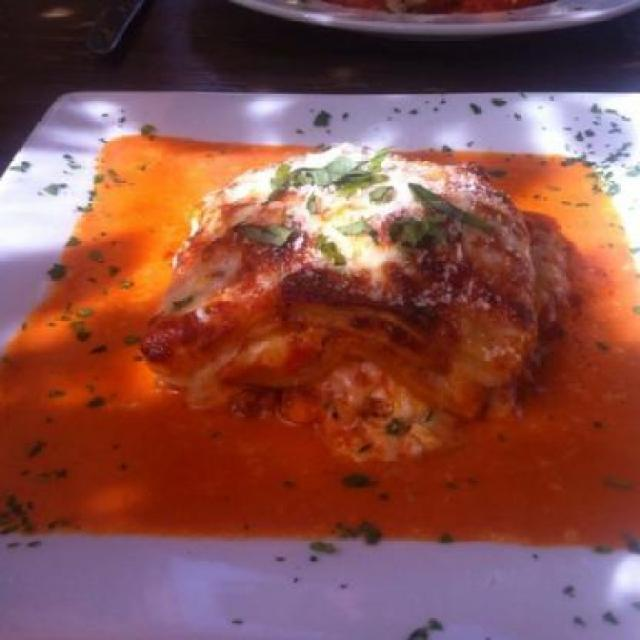Lasagna: (157, 148, 546, 462)
